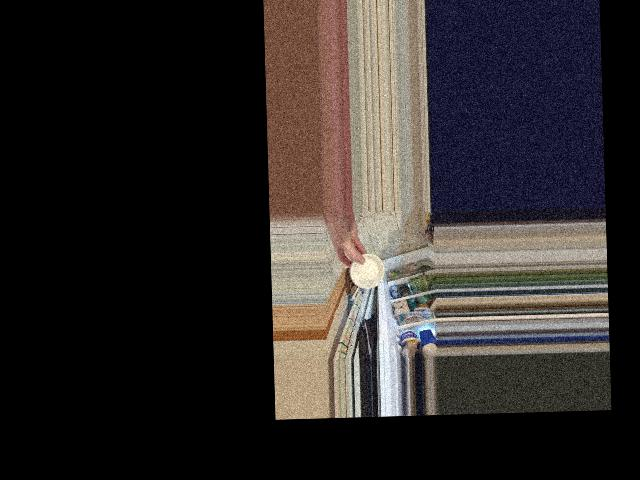cotage: (346, 252, 382, 289)
